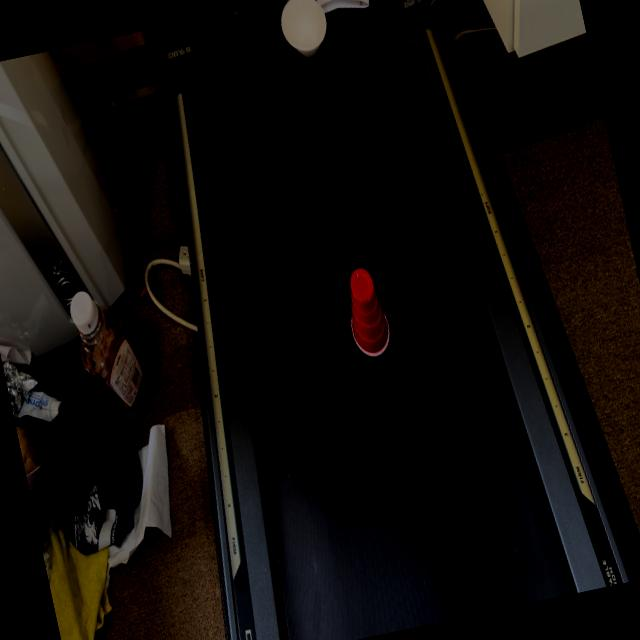Recycle: (338, 262, 395, 361), (275, 0, 334, 66)
